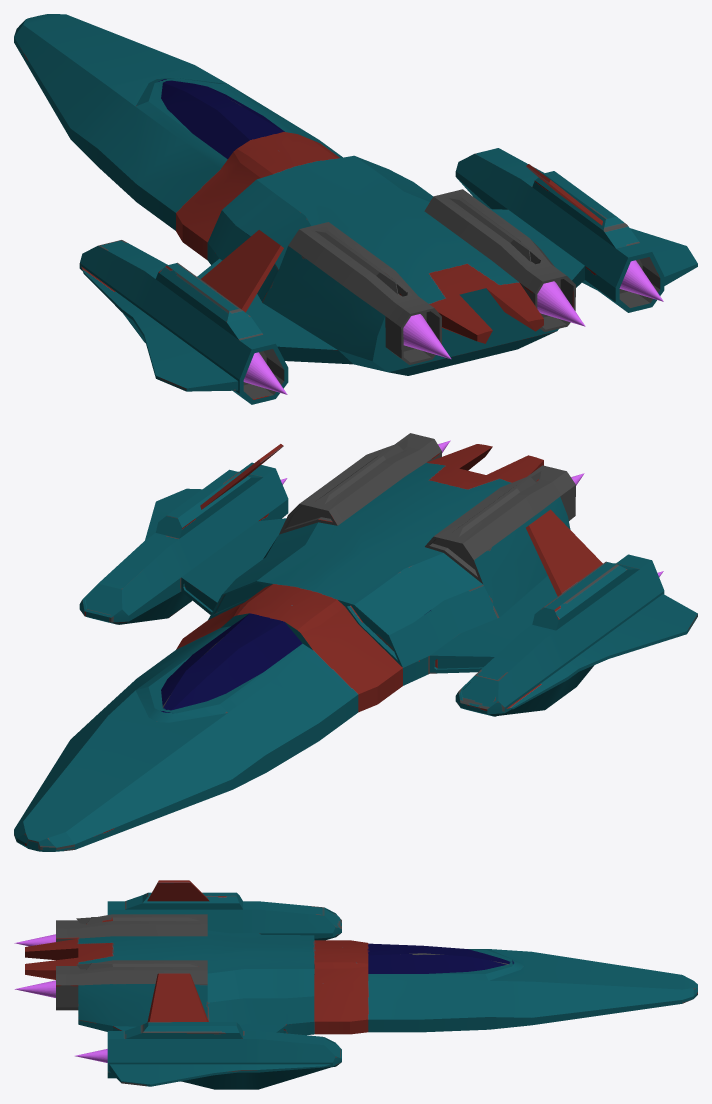
File: Spaceships_8.fbx
The picture shows the model from 3 angles, top to bottom: view 1: azimuth 30°, elevation 25°; view 2: azimuth 150°, elevation 25°; view 3: azimuth 270°, elevation 25°; orthographic projection. The views are drawn at different scales.
Visible parts, largest first — view 1: Cube.008; view 2: Cube.008; view 3: Cube.008.
Boxes of the visible parts, bbox=[...] form: Cube.008: bbox=[14, 14, 697, 404]; Cube.008: bbox=[14, 433, 697, 851]; Cube.008: bbox=[14, 880, 697, 1089].
Size of the model in its own units: 101 by 24.1 by 159.
Materials: 1 (1 with a texture image).
